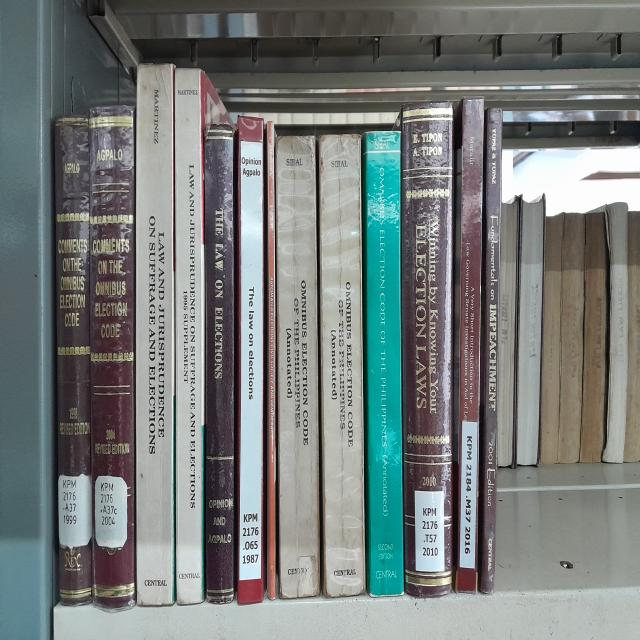book: (400, 102, 454, 596), (89, 105, 136, 609), (317, 134, 365, 597), (273, 133, 320, 598), (135, 64, 175, 605), (361, 131, 404, 597), (55, 115, 93, 605), (174, 68, 204, 604), (204, 120, 237, 603), (456, 98, 484, 592), (236, 116, 264, 604), (480, 108, 501, 592), (264, 121, 278, 598)
